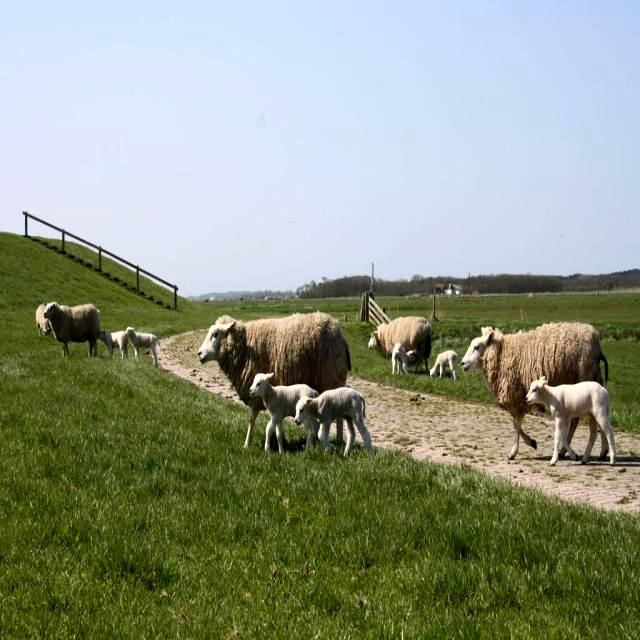sheep: (525, 375, 613, 463)
